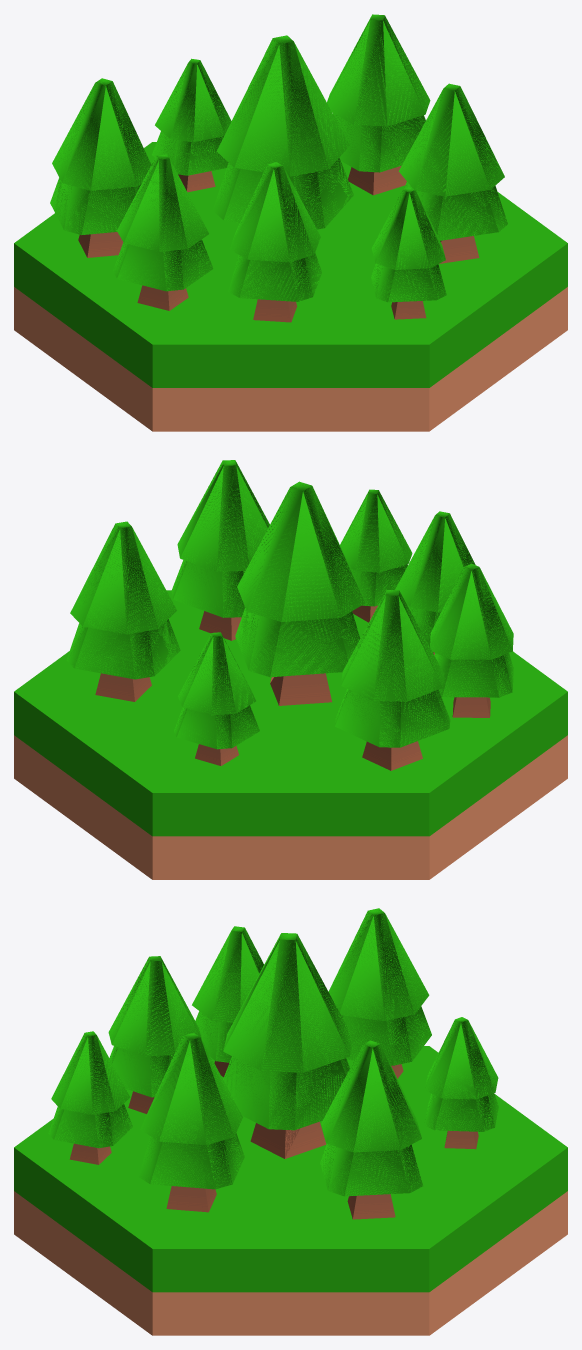
File: flat_forest.glb
3 renders of one model, top to bottom at view 1: azimuth 30°, elevation 25°; view 2: azimuth 150°, elevation 25°; view 3: azimuth 270°, elevation 25°, orthographic.
Parts seen in each view (by area): view 1: grass-forest; view 2: grass-forest; view 3: grass-forest.
Part boxes in pixels (x1=…): grass-forest: x1=14, y1=14, x2=567, y2=431; grass-forest: x1=14, y1=460, x2=567, y2=879; grass-forest: x1=14, y1=908, x2=567, y2=1335.
Bounding box in the file's own units: 1 × 0.675 × 1.15.
1 material, 1 textured.
